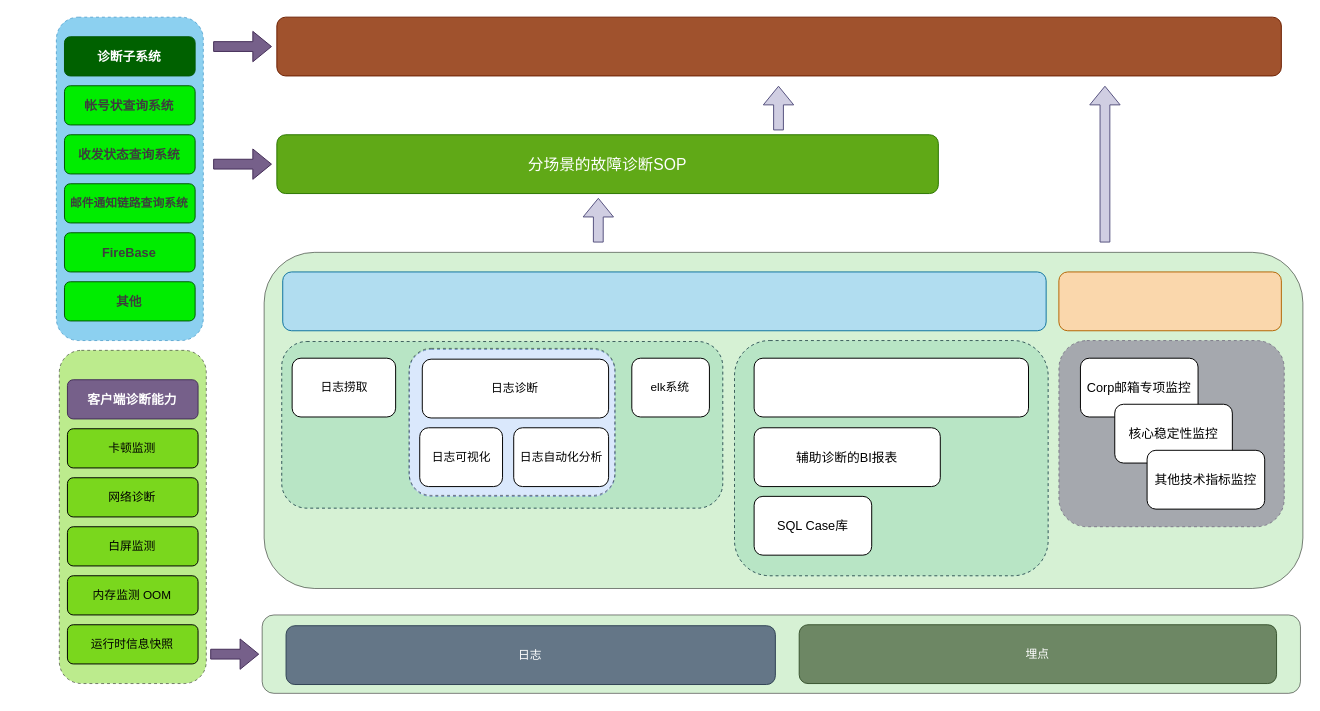
Some shapes in this 1320 by 711 pixel diagram are drawn without their labels. The shapes that lost their labels are listed below. From the top down, each one's centre as x and y in pixels, then its label:
pixel 778 46: 网易邮箱监控&诊断系统
pixel 664 301: 故障诊断
pixel 1169 301: 指标监控
pixel 891 387: 一键查询用户操作记录&失败详情
